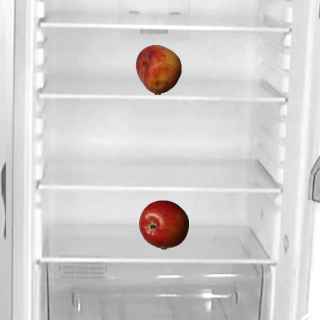Apple Braeburn: (138, 199, 188, 249)
Peach: (133, 44, 183, 94)
